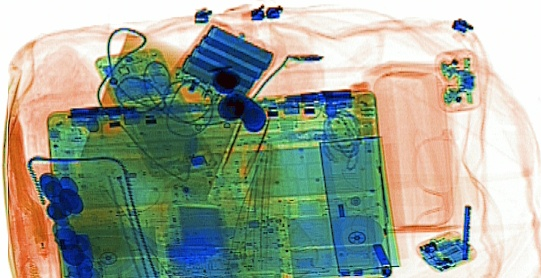powerbank: (166, 17, 279, 110)
